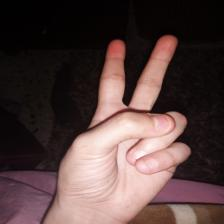two: (60, 33, 198, 202)
